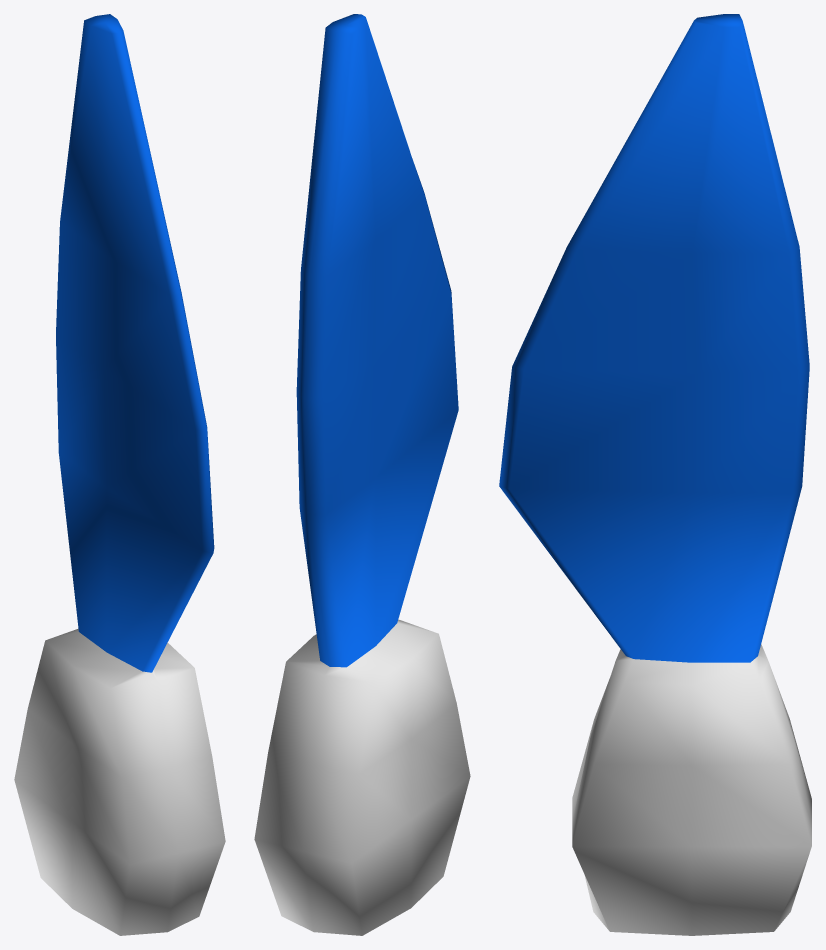
Rendered from cheese_knife.fbx.
3 views of the same model, side by side, from view 1: azimuth 30°, elevation 25°; view 2: azimuth 150°, elevation 25°; view 3: azimuth 270°, elevation 25° (orthographic). The views are drawn at different scales.
Visible parts, largest first — view 1: Cube; view 2: Cube; view 3: Cube.
Part boxes in pixels (bbox=[...]): Cube: bbox=[14, 14, 225, 935]; Cube: bbox=[254, 14, 470, 935]; Cube: bbox=[499, 14, 811, 935].
Bounding box in the file's own units: 19.75 × 171 × 54.35.
